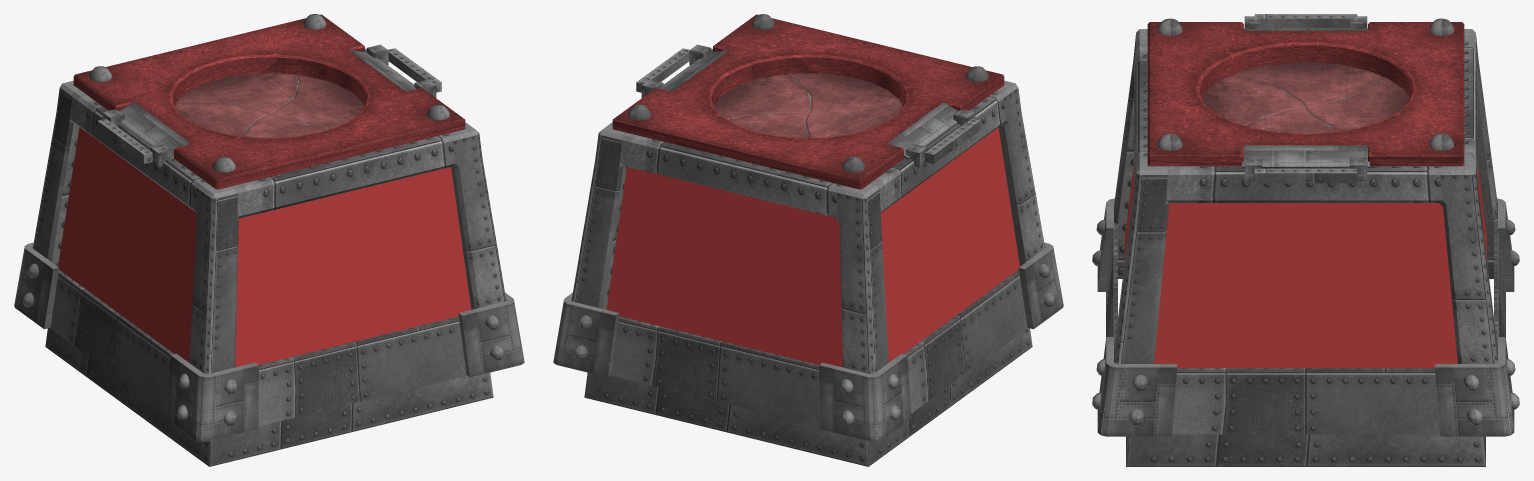
The model's file is static.glb.
The picture shows the model from 3 angles, left to right: view 1: azimuth 30°, elevation 25°; view 2: azimuth 150°, elevation 25°; view 3: azimuth 270°, elevation 25°; orthographic projection. The views are drawn at different scales.
Visible parts, largest first — view 1: Plane, Boole, Plane_2, frame, Cube_4, Cube_3, frame_2, Cube_7, frame_3, Cube_6, Cube_8, Extrude_6 (+8 smaller); view 2: Plane_3, Boole, Plane_2, frame_3, Cube_10, Cube_3, frame_2, Cube_7, frame_4, Cube_14, Cube_12, Extrude (+8 smaller); view 3: Plane_4, Boole, Cube_13, frame_4, Cube_3, frame, Cube_5, Cube_15, frame_3, Extrude_4, Extrude, Cube (+11 smaller).
Boxes of the visible parts, x1,y1,x2,y2 form: Plane: [235, 167, 471, 367]; Boole: [73, 14, 465, 189]; Plane_2: [58, 127, 197, 362]; frame: [231, 122, 506, 309]; Cube_4: [258, 316, 466, 426]; Cube_3: [45, 75, 493, 466]; frame_2: [70, 90, 238, 433]; Cube_7: [50, 270, 173, 413]; frame_3: [33, 80, 79, 266]; Cube_6: [458, 300, 524, 377]; Cube_8: [201, 362, 258, 441]; Extrude_6: [177, 73, 297, 114]; Plane_3: [606, 167, 842, 367]; Boole: [612, 14, 1004, 189]; Plane_2: [880, 127, 1019, 362]; frame_3: [620, 132, 888, 433]; Cube_10: [611, 316, 819, 426]; Cube_3: [584, 75, 1032, 466]; frame_2: [869, 80, 1044, 266]; Cube_7: [904, 270, 1027, 413]; frame_4: [571, 49, 712, 309]; Cube_14: [553, 300, 619, 377]; Cube_12: [819, 362, 876, 441]; Extrude: [786, 73, 901, 115]; Plane_4: [1154, 203, 1457, 367]; Boole: [1147, 22, 1464, 166]; Cube_13: [1172, 368, 1439, 434]; frame_4: [1165, 157, 1497, 363]; Cube_3: [1126, 77, 1485, 466]; frame: [1114, 39, 1169, 363]; Cube_5: [1101, 363, 1177, 436]; Cube_15: [1434, 363, 1510, 436]; frame_3: [1464, 29, 1497, 278]; Extrude_4: [1233, 62, 1381, 107]; Extrude: [1202, 75, 1305, 125]; Cube: [1254, 14, 1357, 183].
Bounding box in the file's own units: 2.05 × 1.66 × 2.05.
Materials: 4 (3 with a texture image).
